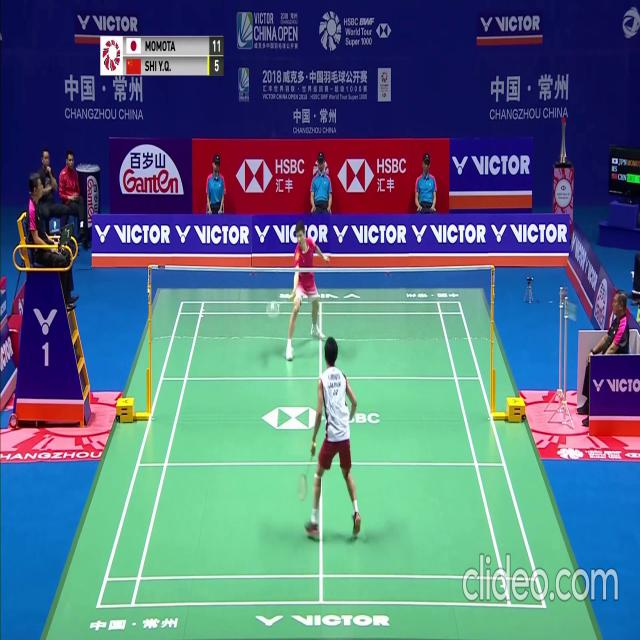Shuttlecock: (270, 301, 275, 308)
